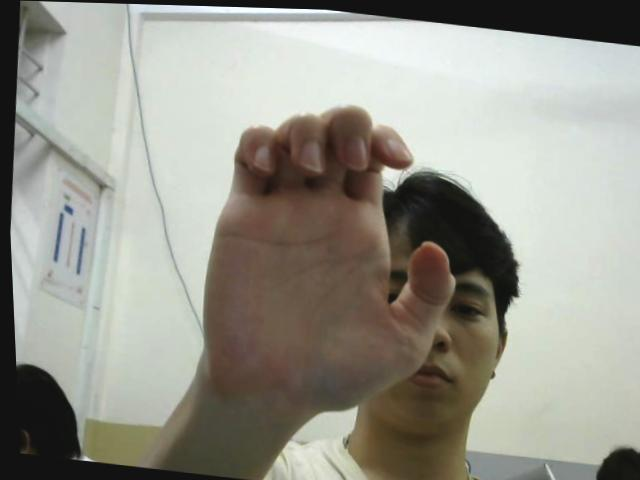E: (182, 85, 471, 419)
